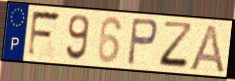6: (96, 15, 125, 65)
9: (66, 13, 92, 62)
A: (186, 22, 226, 75)
F: (25, 10, 63, 60)
P: (126, 17, 160, 68)
Z: (158, 19, 196, 71)
